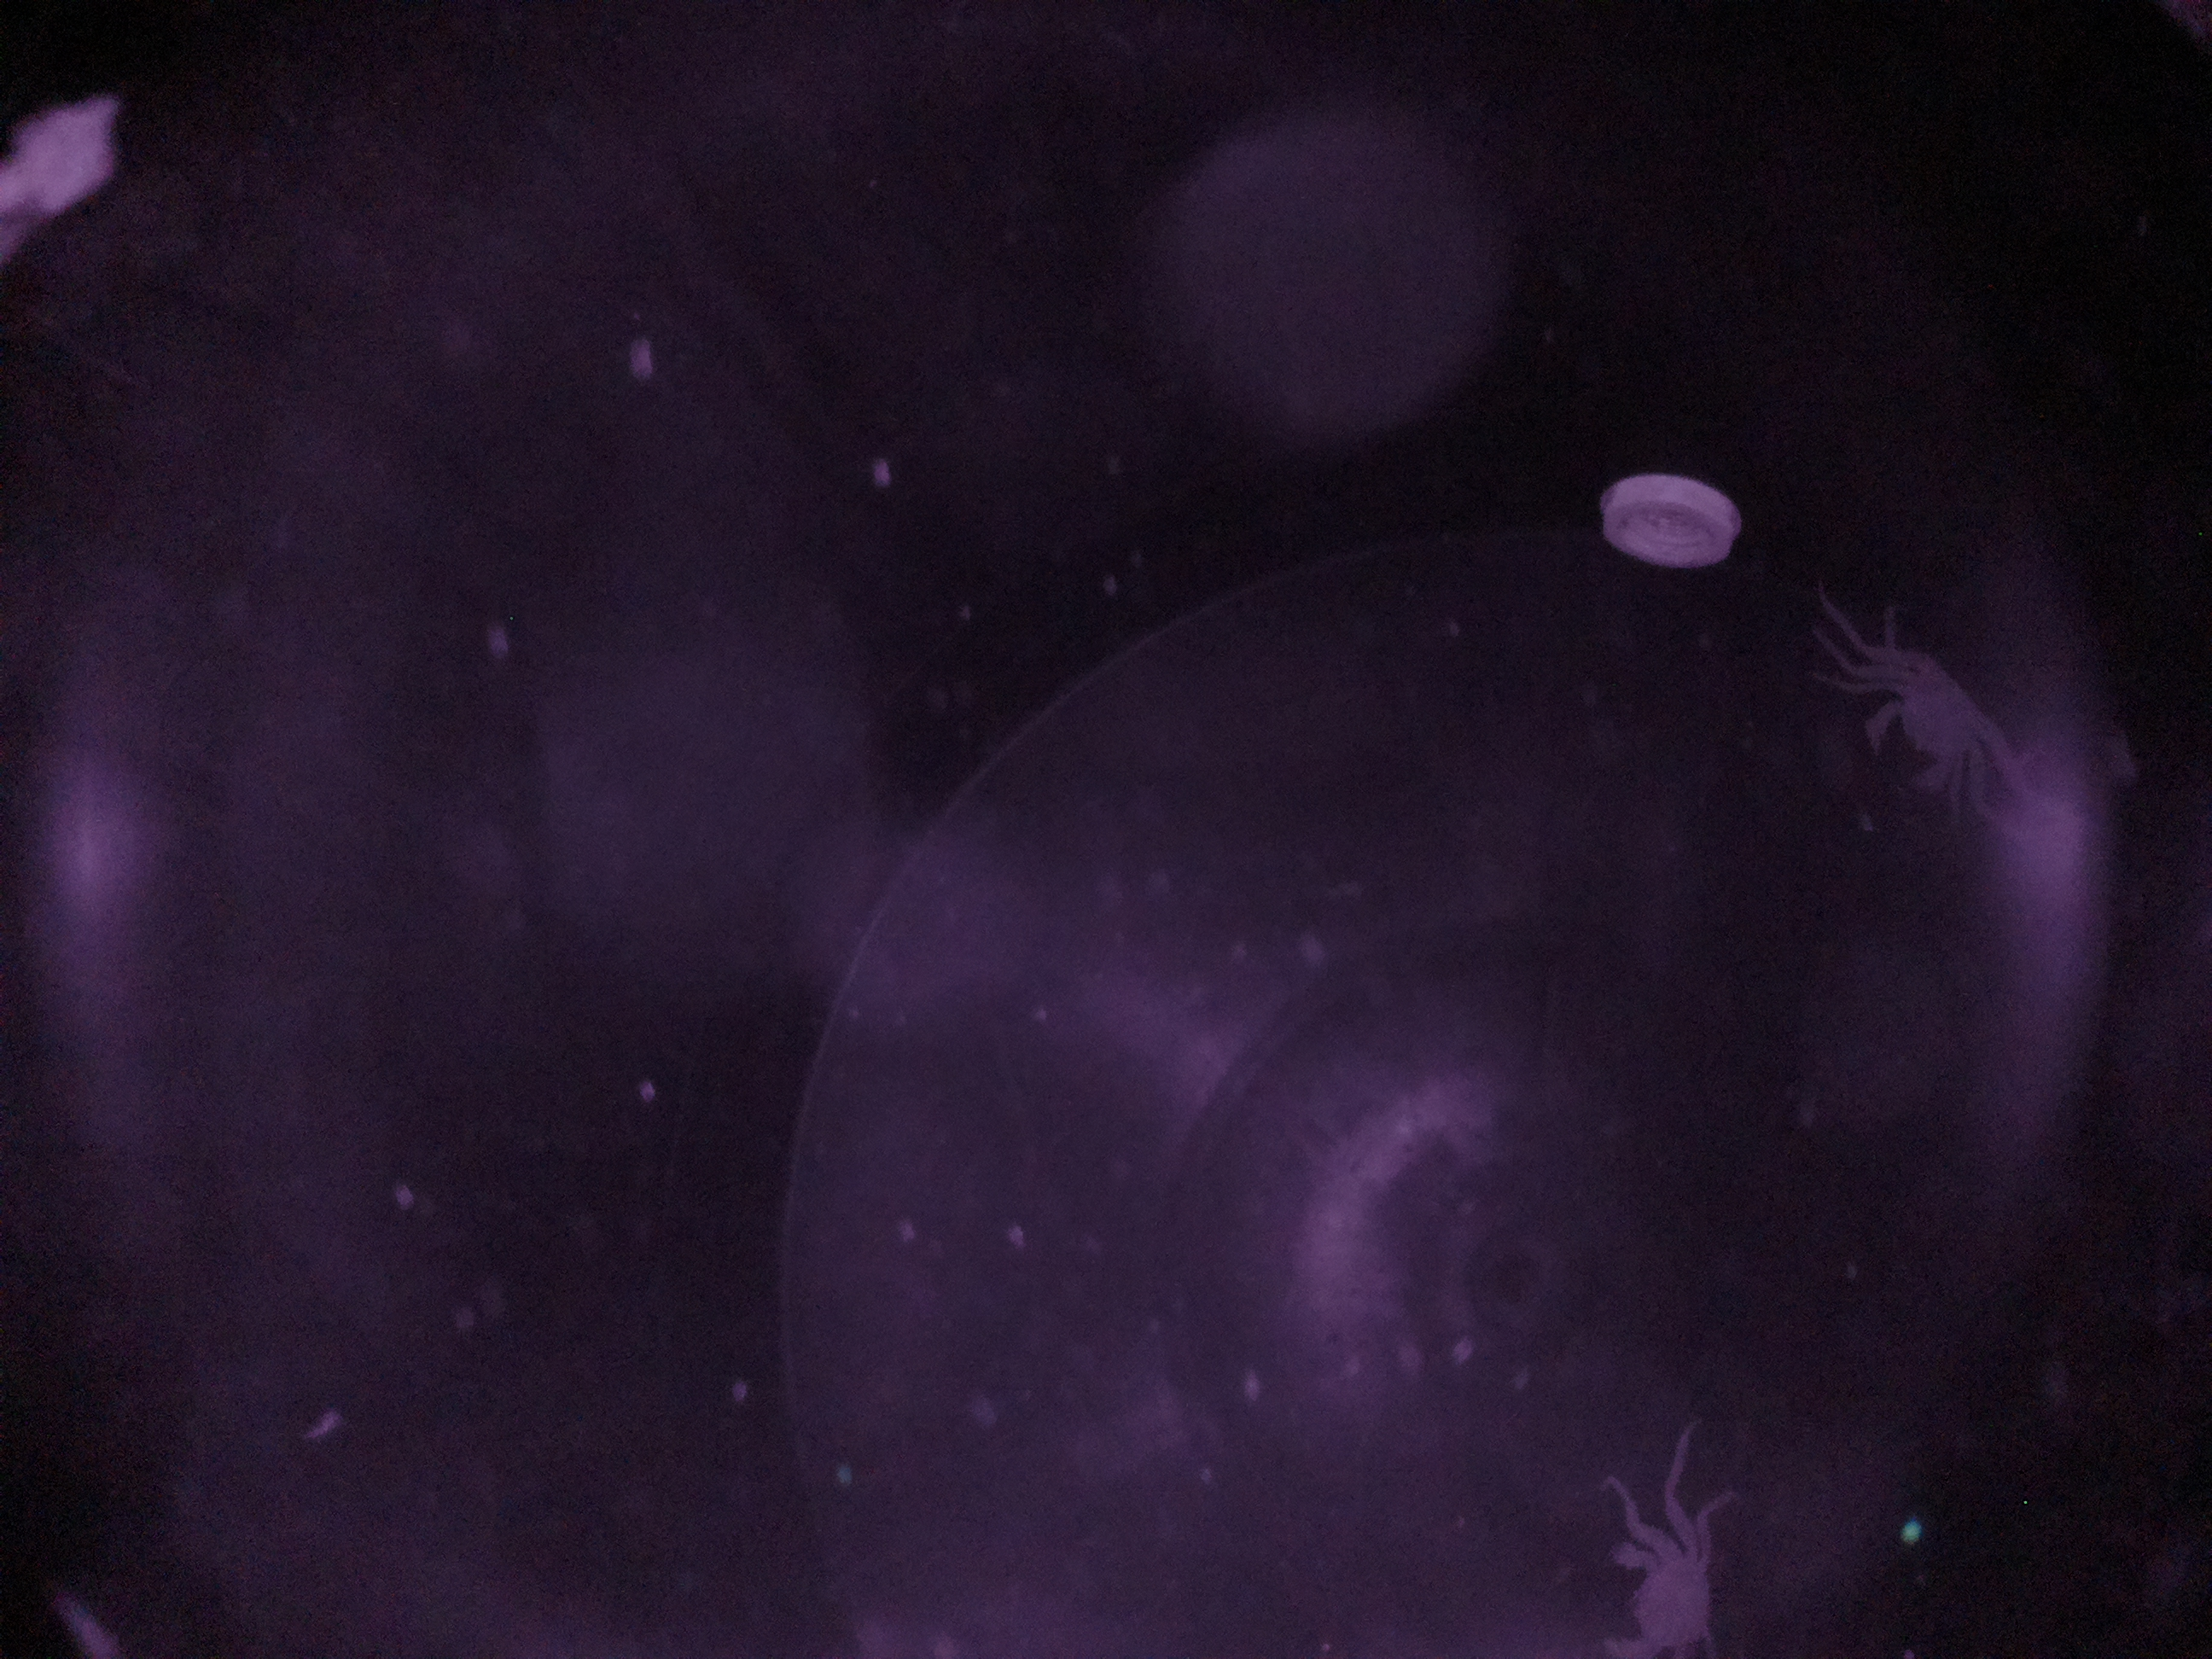Crab: (1832, 645, 2008, 829), (1588, 1507, 1735, 1659)
